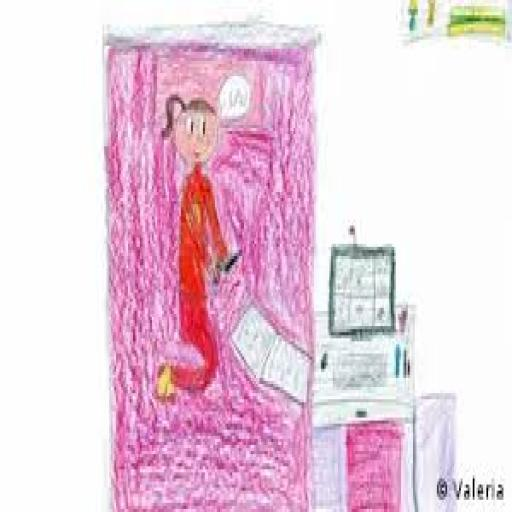person: (146, 90, 244, 406)
